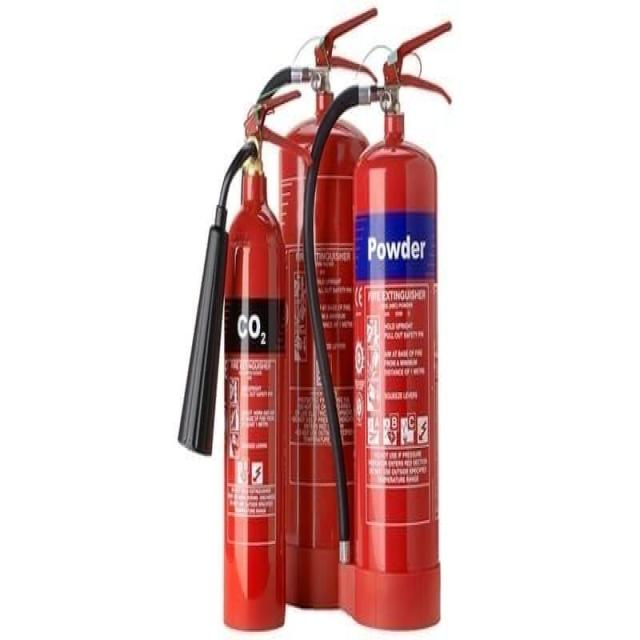fire_extinguisher: (301, 14, 454, 638), (238, 6, 379, 616), (173, 84, 314, 638)
